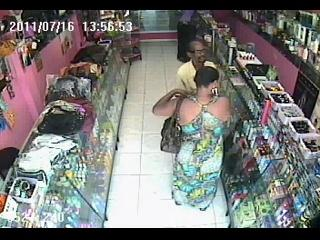Normal: (152, 66, 235, 222), (176, 39, 208, 91), (160, 96, 185, 154), (176, 11, 198, 64), (120, 46, 142, 66)
